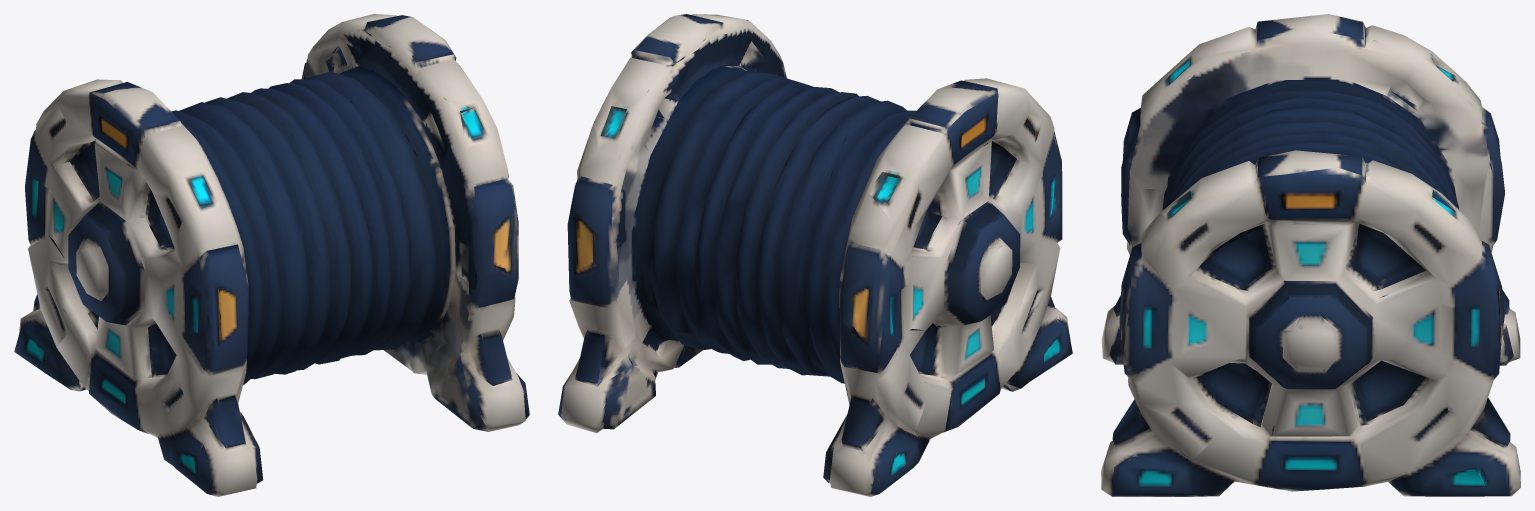
File: industrial-cable-spool_LOD0.glb
3 views of the same model, side by side, from view 1: azimuth 30°, elevation 25°; view 2: azimuth 150°, elevation 25°; view 3: azimuth 270°, elevation 25° (orthographic).
Visible parts, largest first — view 1: industrial-cable-spool_LOD0; view 2: industrial-cable-spool_LOD0; view 3: industrial-cable-spool_LOD0.
Boxes of the visible parts, x1,y1,x2,y2 form: industrial-cable-spool_LOD0: [14, 14, 529, 496]; industrial-cable-spool_LOD0: [558, 14, 1072, 496]; industrial-cable-spool_LOD0: [1101, 14, 1520, 496].
Bounding box in the file's own units: 1.31 × 1.1 × 1.26.
1 material, 1 textured.
